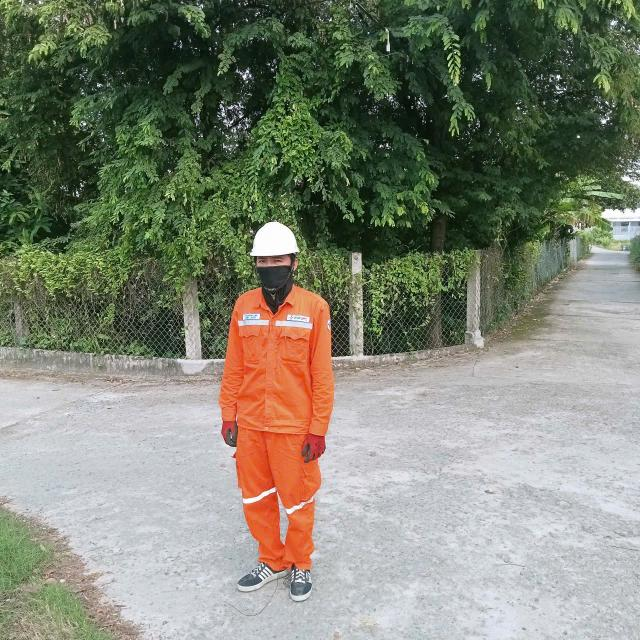gloves: (210, 402, 245, 452), (296, 422, 337, 463)
helmet: (247, 222, 302, 261)
shoes: (233, 559, 290, 592), (288, 558, 315, 605)
